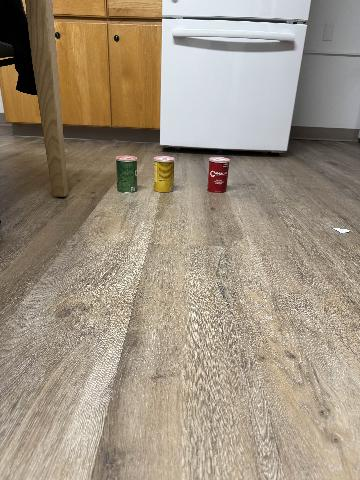Golden Can: (154, 157, 174, 192)
Green Can: (116, 156, 137, 192)
Red Can: (208, 157, 229, 192)
